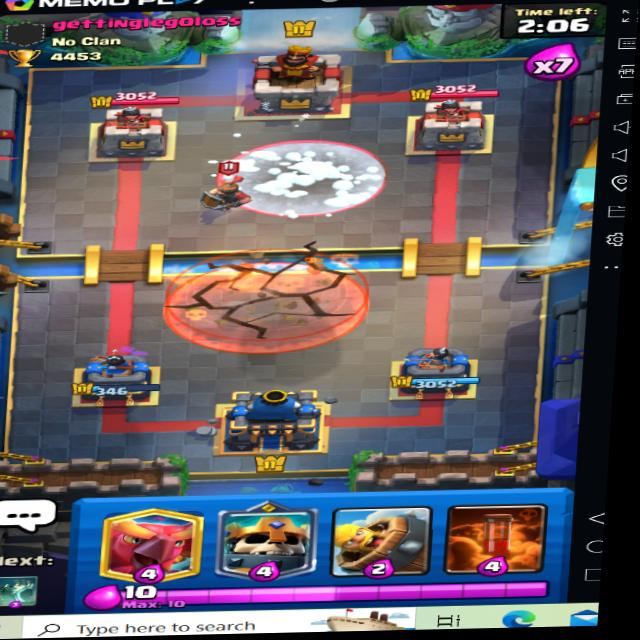earthquake: (173, 246, 377, 338)
freeze: (221, 129, 396, 218)
poison: (176, 253, 370, 358)
royal-recruits: (204, 161, 262, 214)
